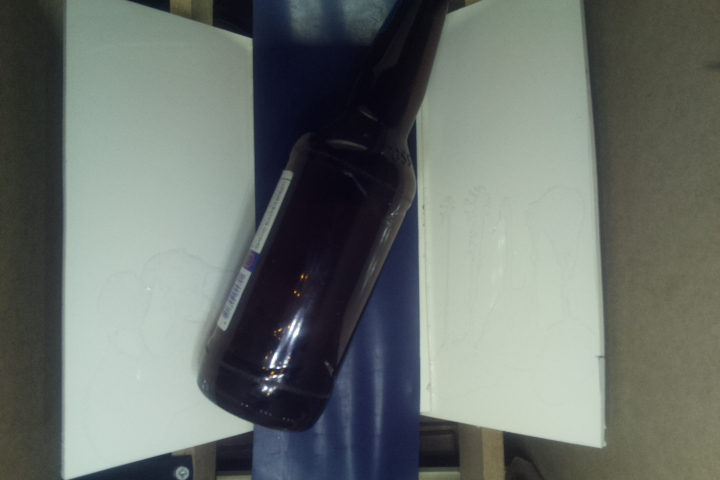makju: (197, 1, 453, 434)
